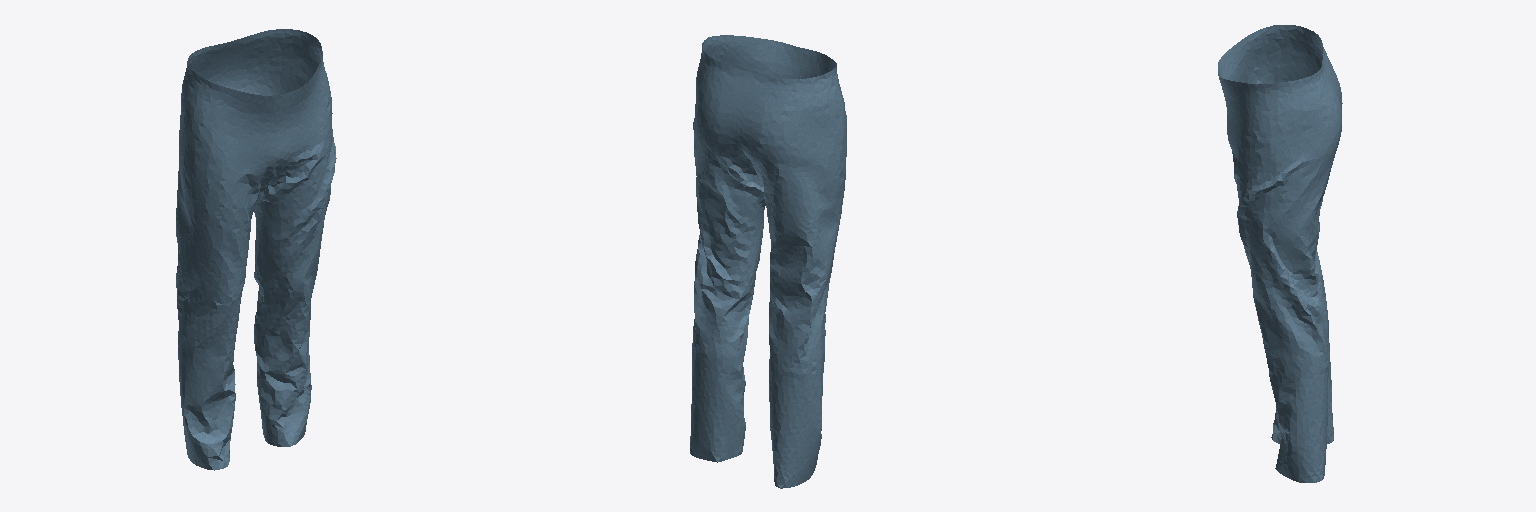
The picture shows the model from 3 angles: view 1: azimuth 30°, elevation 25°; view 2: azimuth 150°, elevation 25°; view 3: azimuth 270°, elevation 25°; orthographic projection.
Size of the model in its own units: 384 by 1041 by 289.
Materials: 1 (1 with a texture image).